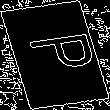P_E: (13, 31, 97, 79)
